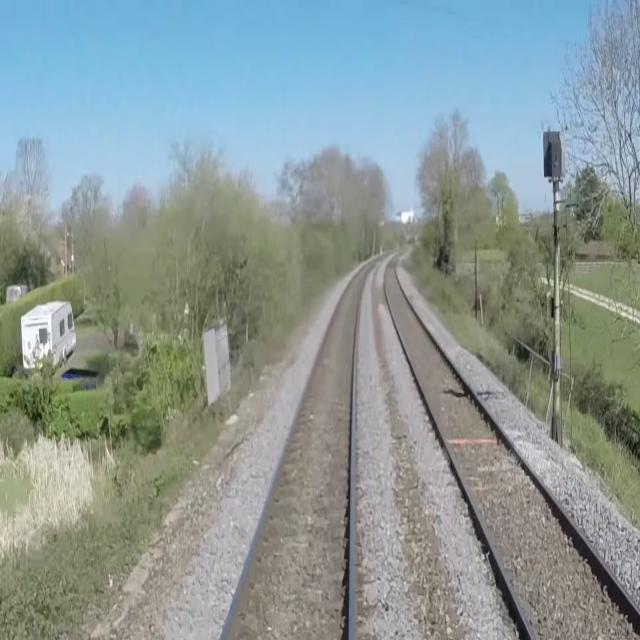rail-track: (385, 255, 640, 639), (225, 255, 385, 639)
